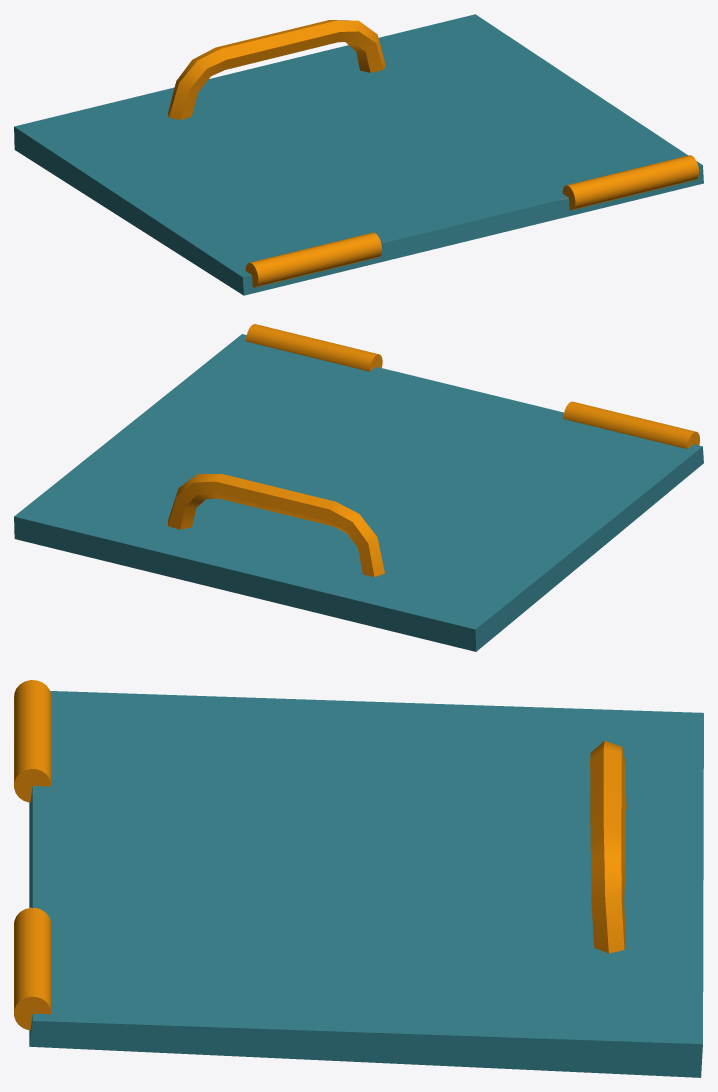
File: EXP_2_Side_Console_Lid1.fbx
3 renders of one model, top to bottom at view 1: azimuth 30°, elevation 25°; view 2: azimuth 150°, elevation 25°; view 3: azimuth 270°, elevation 25°, orthographic. The views are drawn at different scales.
Visible parts, largest first — view 1: Left_Console_Lid; view 2: Left_Console_Lid; view 3: Left_Console_Lid.
Boxes of the visible parts, box(x1,y1,x2,y2) form: Left_Console_Lid: box(14, 14, 703, 295); Left_Console_Lid: box(14, 324, 703, 651); Left_Console_Lid: box(14, 680, 703, 1077).
Size of the model in its own units: 483 by 83.33 by 425.
